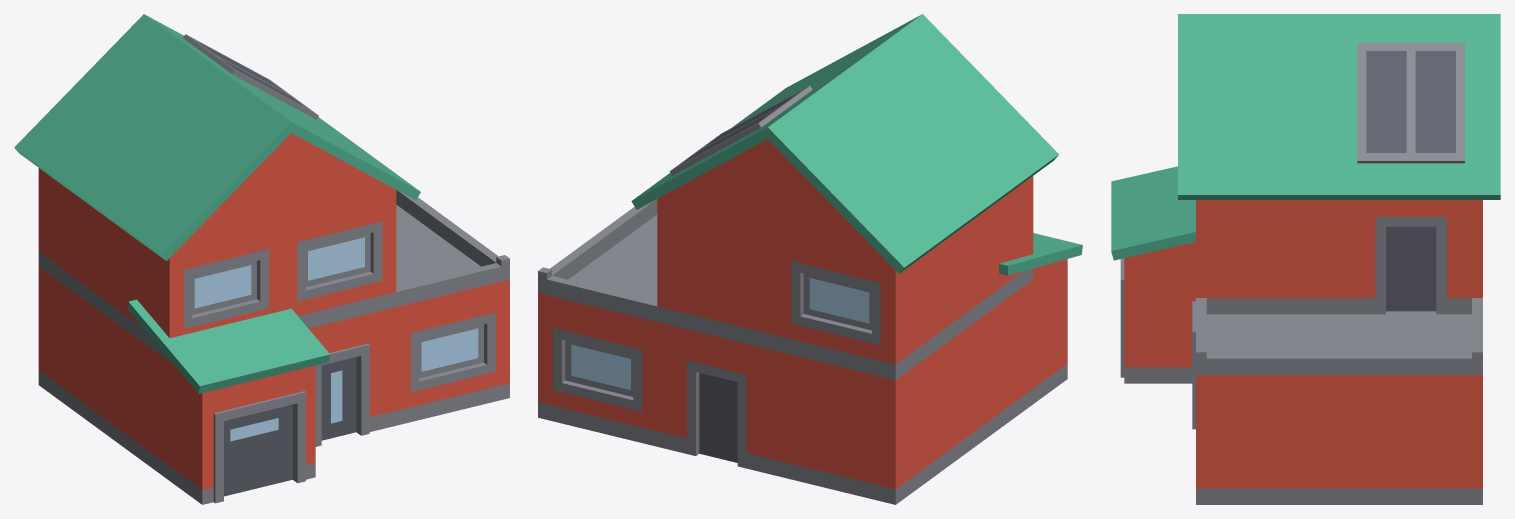
The model's file is House Type 11.glb.
3 renders of one model, left to right at view 1: azimuth 30°, elevation 25°; view 2: azimuth 150°, elevation 25°; view 3: azimuth 270°, elevation 25°, orthographic. The views are drawn at different scales.
Parts seen in each view (by area): view 1: house_type11; view 2: house_type11; view 3: house_type11.
Part boxes in pixels (bbox=[...]): house_type11: bbox=[14, 14, 509, 504]; house_type11: bbox=[538, 14, 1082, 504]; house_type11: bbox=[1111, 14, 1500, 504].
Bounding box in the file's own units: 1.26 × 1.14 × 1.09.
